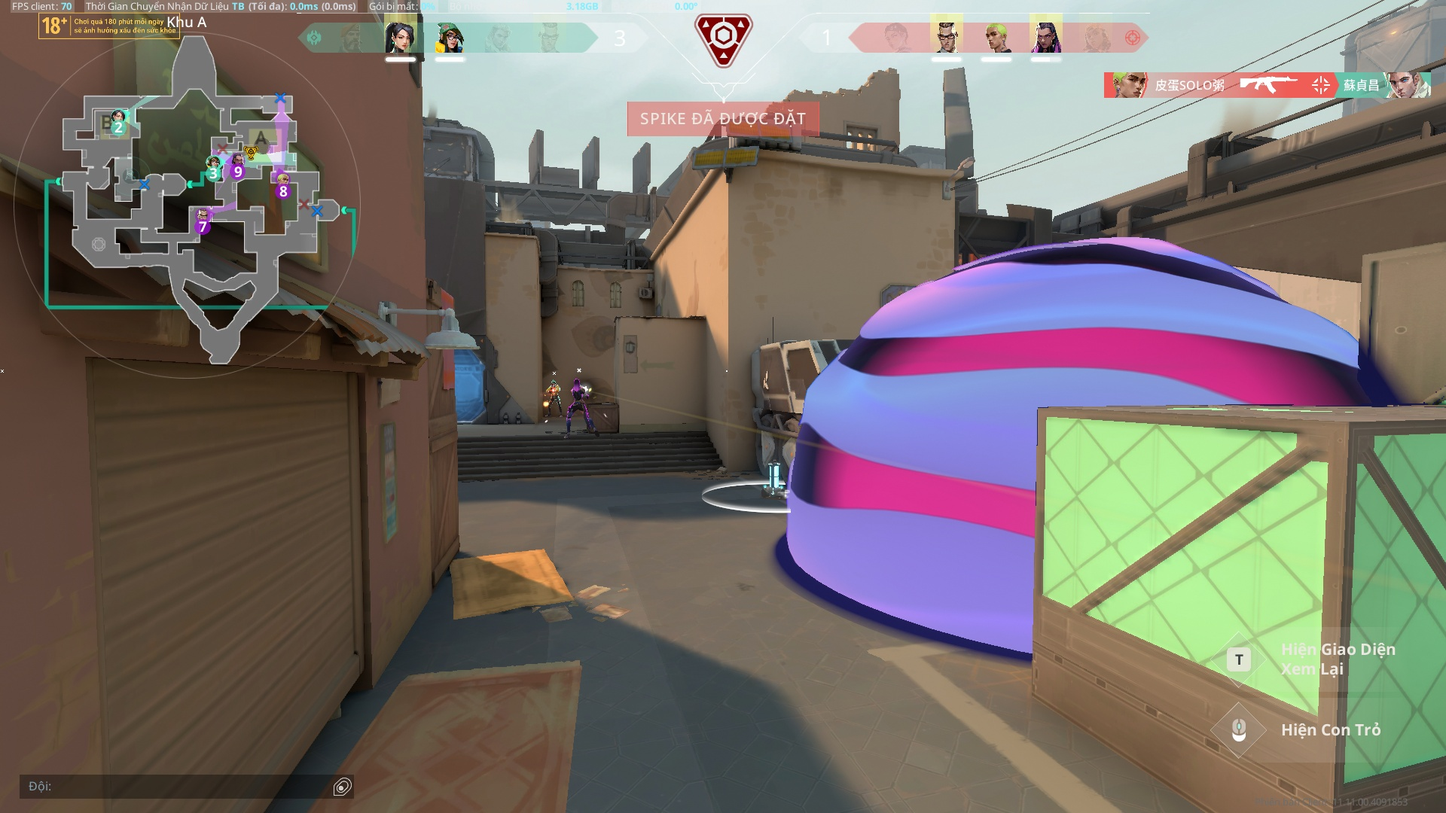body: (571, 386, 587, 404)
head: (572, 379, 582, 387)
